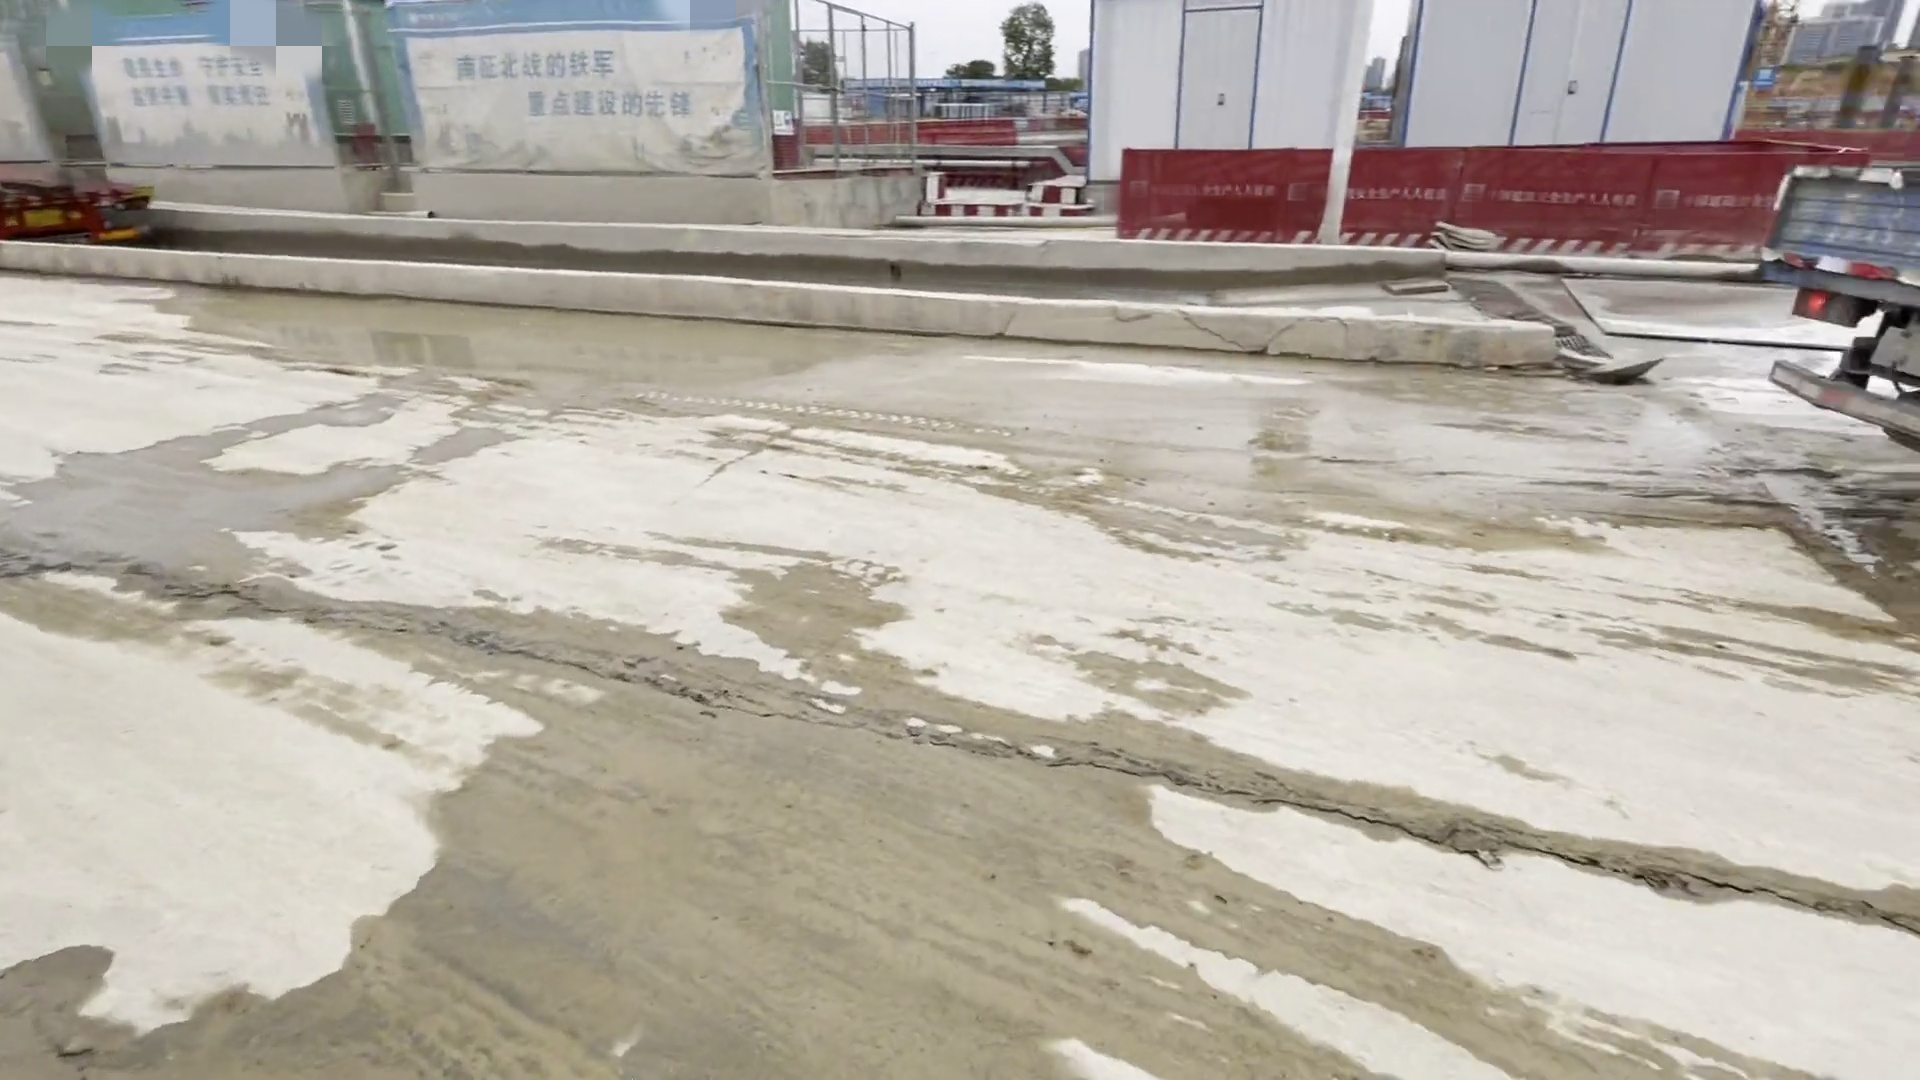fence: (1104, 135, 1804, 281)
slogan: (71, 36, 837, 214)
